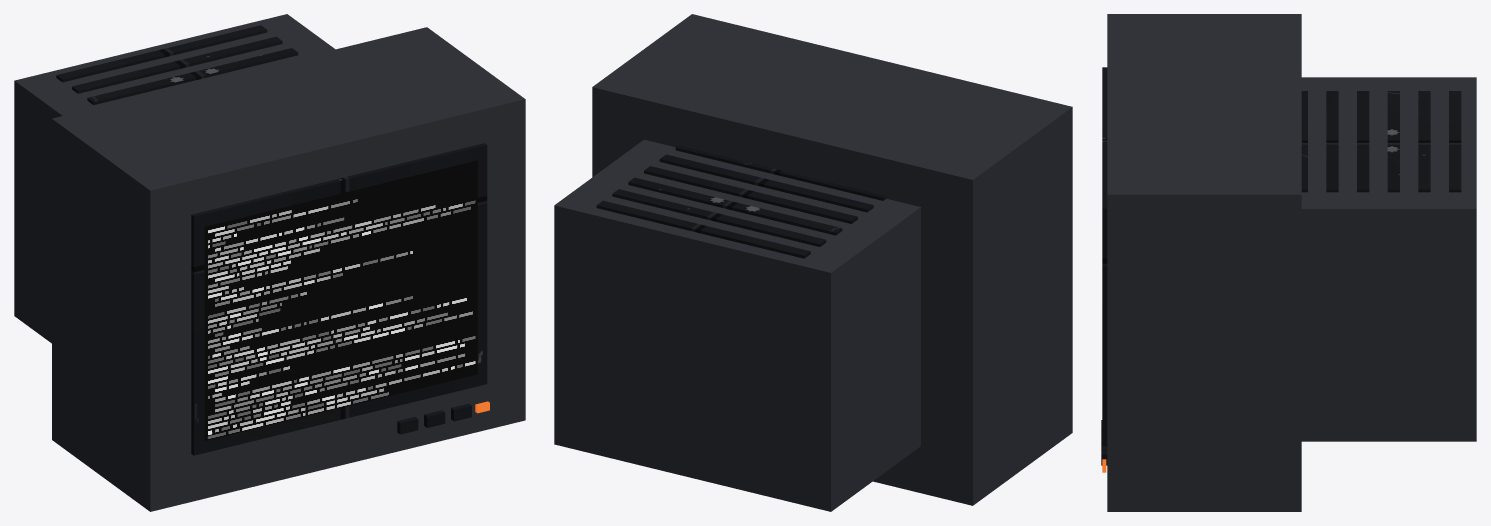
Rendered from Tech_CRT.gltf.
3 views of the same model, side by side, from view 1: azimuth 30°, elevation 25°; view 2: azimuth 150°, elevation 25°; view 3: azimuth 270°, elevation 25° (orthographic). The views are drawn at different scales.
Visible parts, largest first — view 1: Tech_CRT; view 2: Tech_CRT; view 3: Tech_CRT.
Boxes of the visible parts, left/top/right/bottom form: Tech_CRT: left=14, top=14, right=525, bottom=511; Tech_CRT: left=554, top=14, right=1072, bottom=511; Tech_CRT: left=1101, top=14, right=1476, bottom=511.
Size of the model in its own units: 0.418 by 0.342 by 0.367.
Materials: 4 (2 with a texture image).
